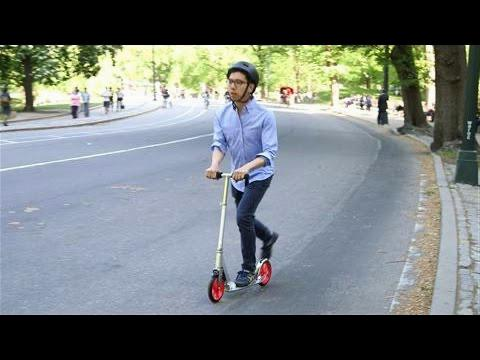With Helmet: (223, 57, 263, 103)
